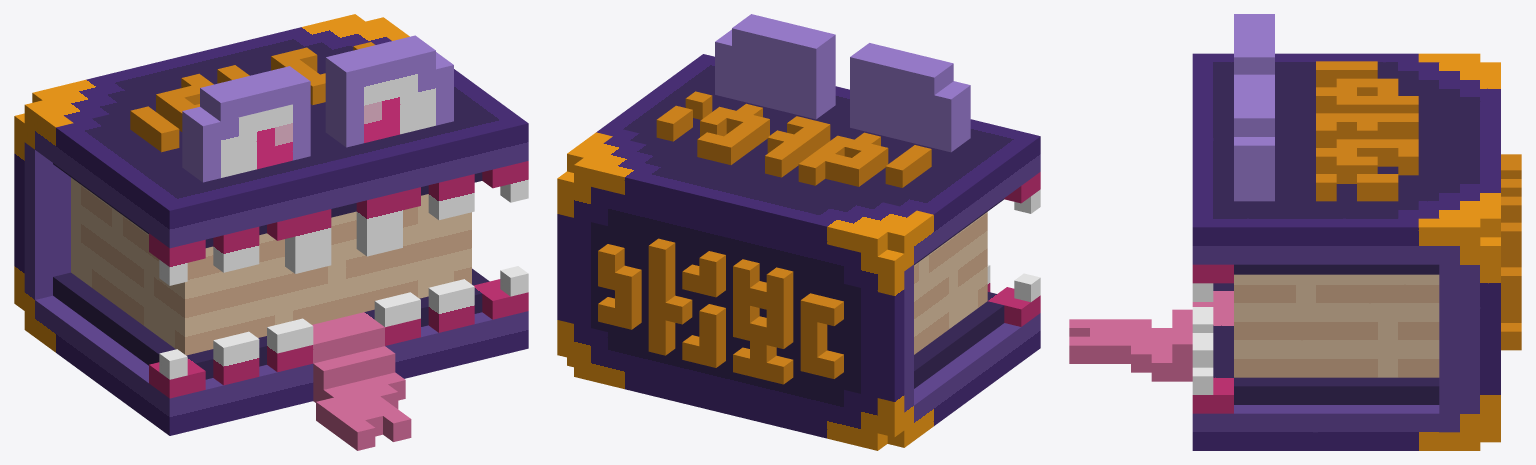
The model's file is Tome.gltf.
3 views of the same model, side by side, from view 1: azimuth 30°, elevation 25°; view 2: azimuth 150°, elevation 25°; view 3: azimuth 270°, elevation 25° (orthographic). The views are drawn at different scales.
Visible parts, largest first — view 1: Content-Mesh; view 2: Content-Mesh; view 3: Content-Mesh.
Boxes of the visible parts, x1,y1,x2,y2 form: Content-Mesh: (14,14,528,450); Content-Mesh: (557,14,1040,450); Content-Mesh: (1069,14,1521,450).
Size of the model in its own units: 20 by 16 by 22.
1 material, 1 textured.
